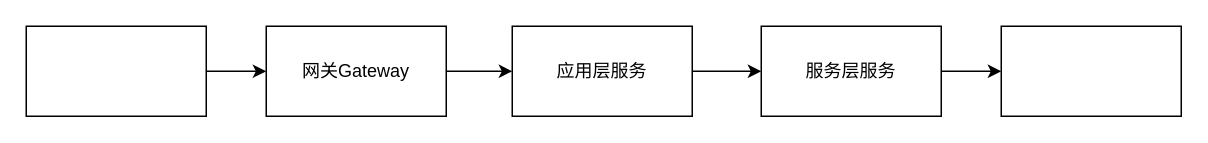
This 1208x143 diagram has some shape labels left out. The centre of each missing label's shape, as x and y in pixels:
Mysql: the point at 1090,70
Web: the point at 115,70
